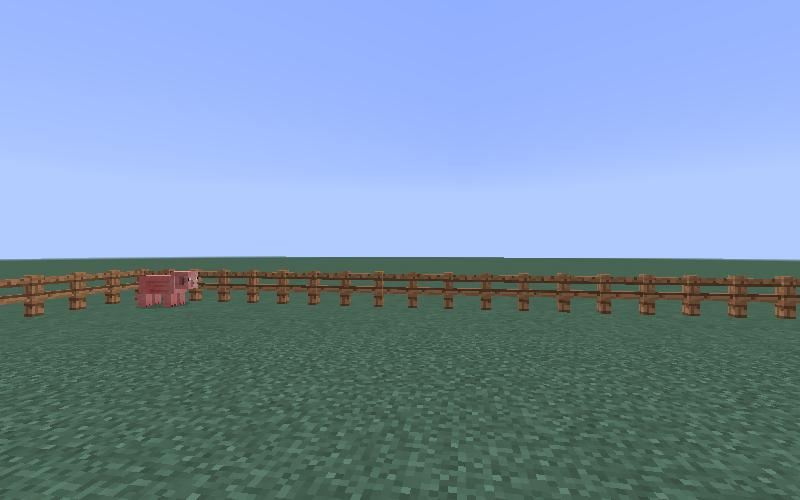pig: (133, 267, 200, 312)
